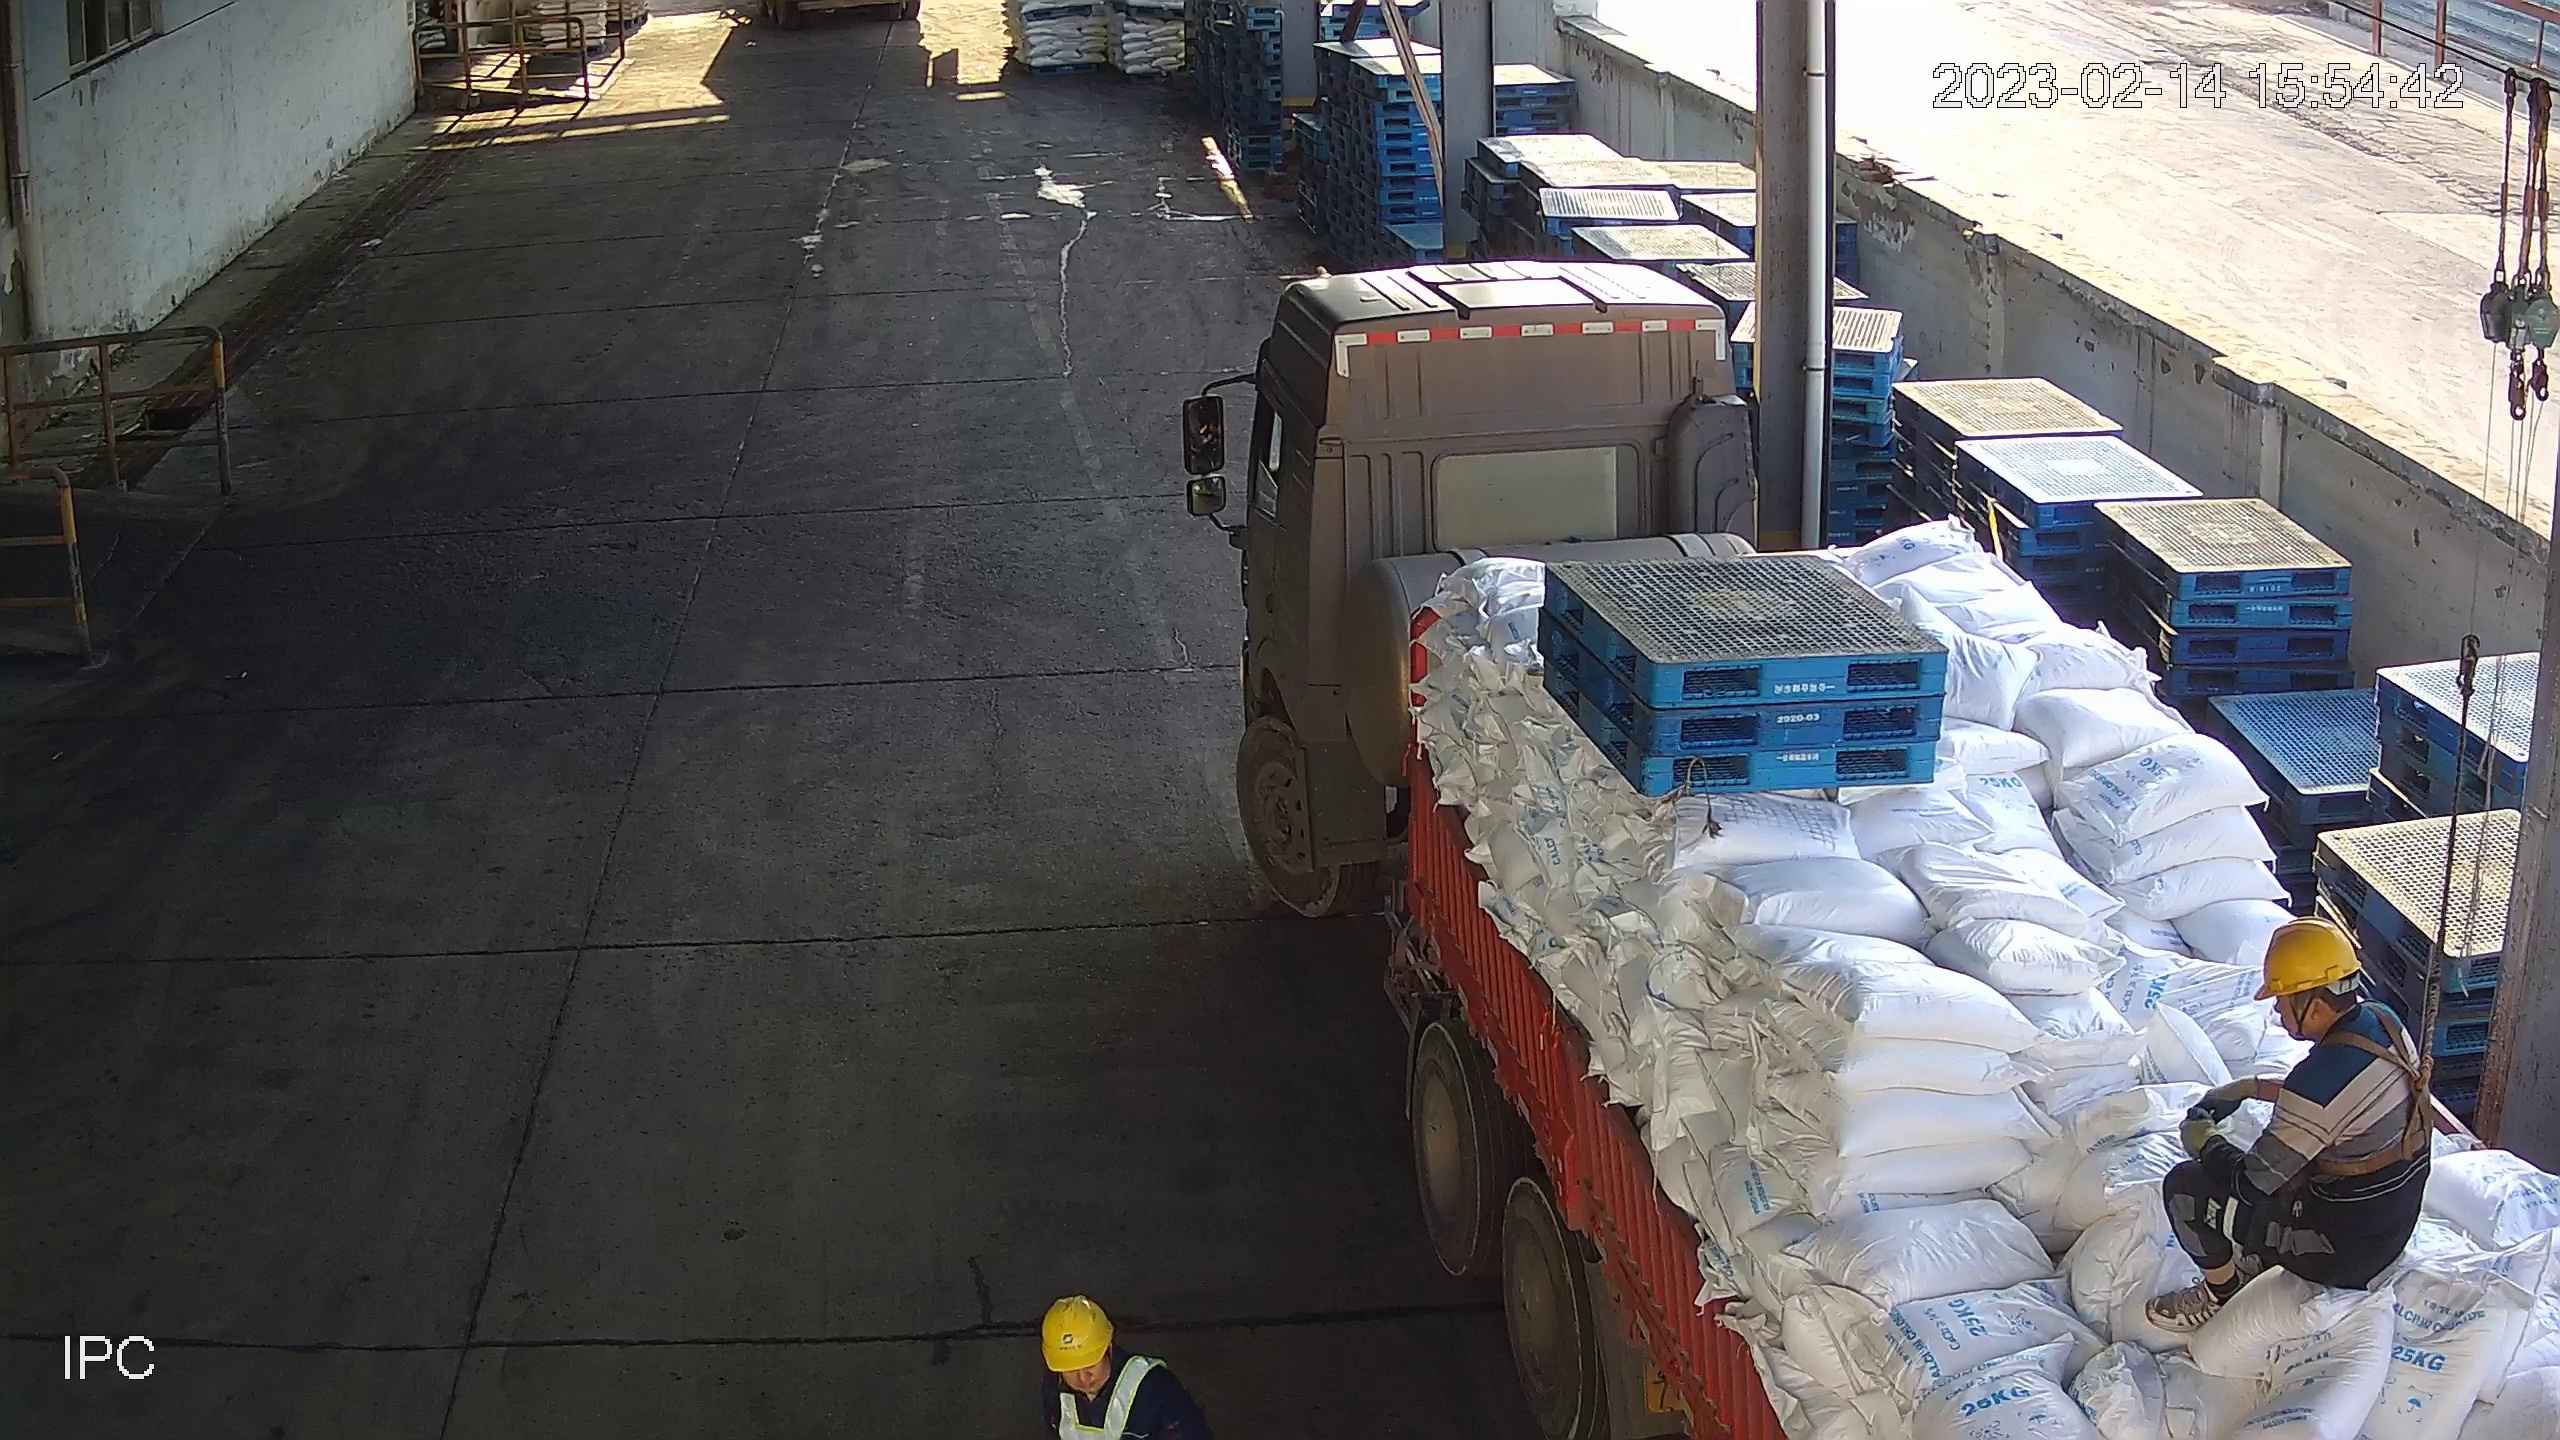belt: (2327, 1001, 2451, 1171)
head: (2199, 917, 2438, 1108), (1014, 1299, 1198, 1440)
helmet: (2251, 912, 2368, 995), (1020, 1295, 1114, 1377)
people: (2166, 917, 2431, 1332)
truck: (1194, 266, 2560, 1440)
